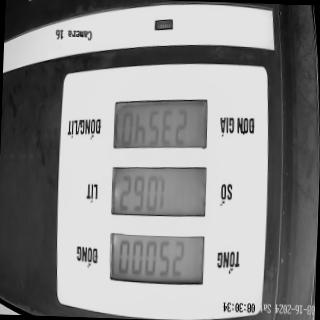screen: (105, 94, 211, 288)
